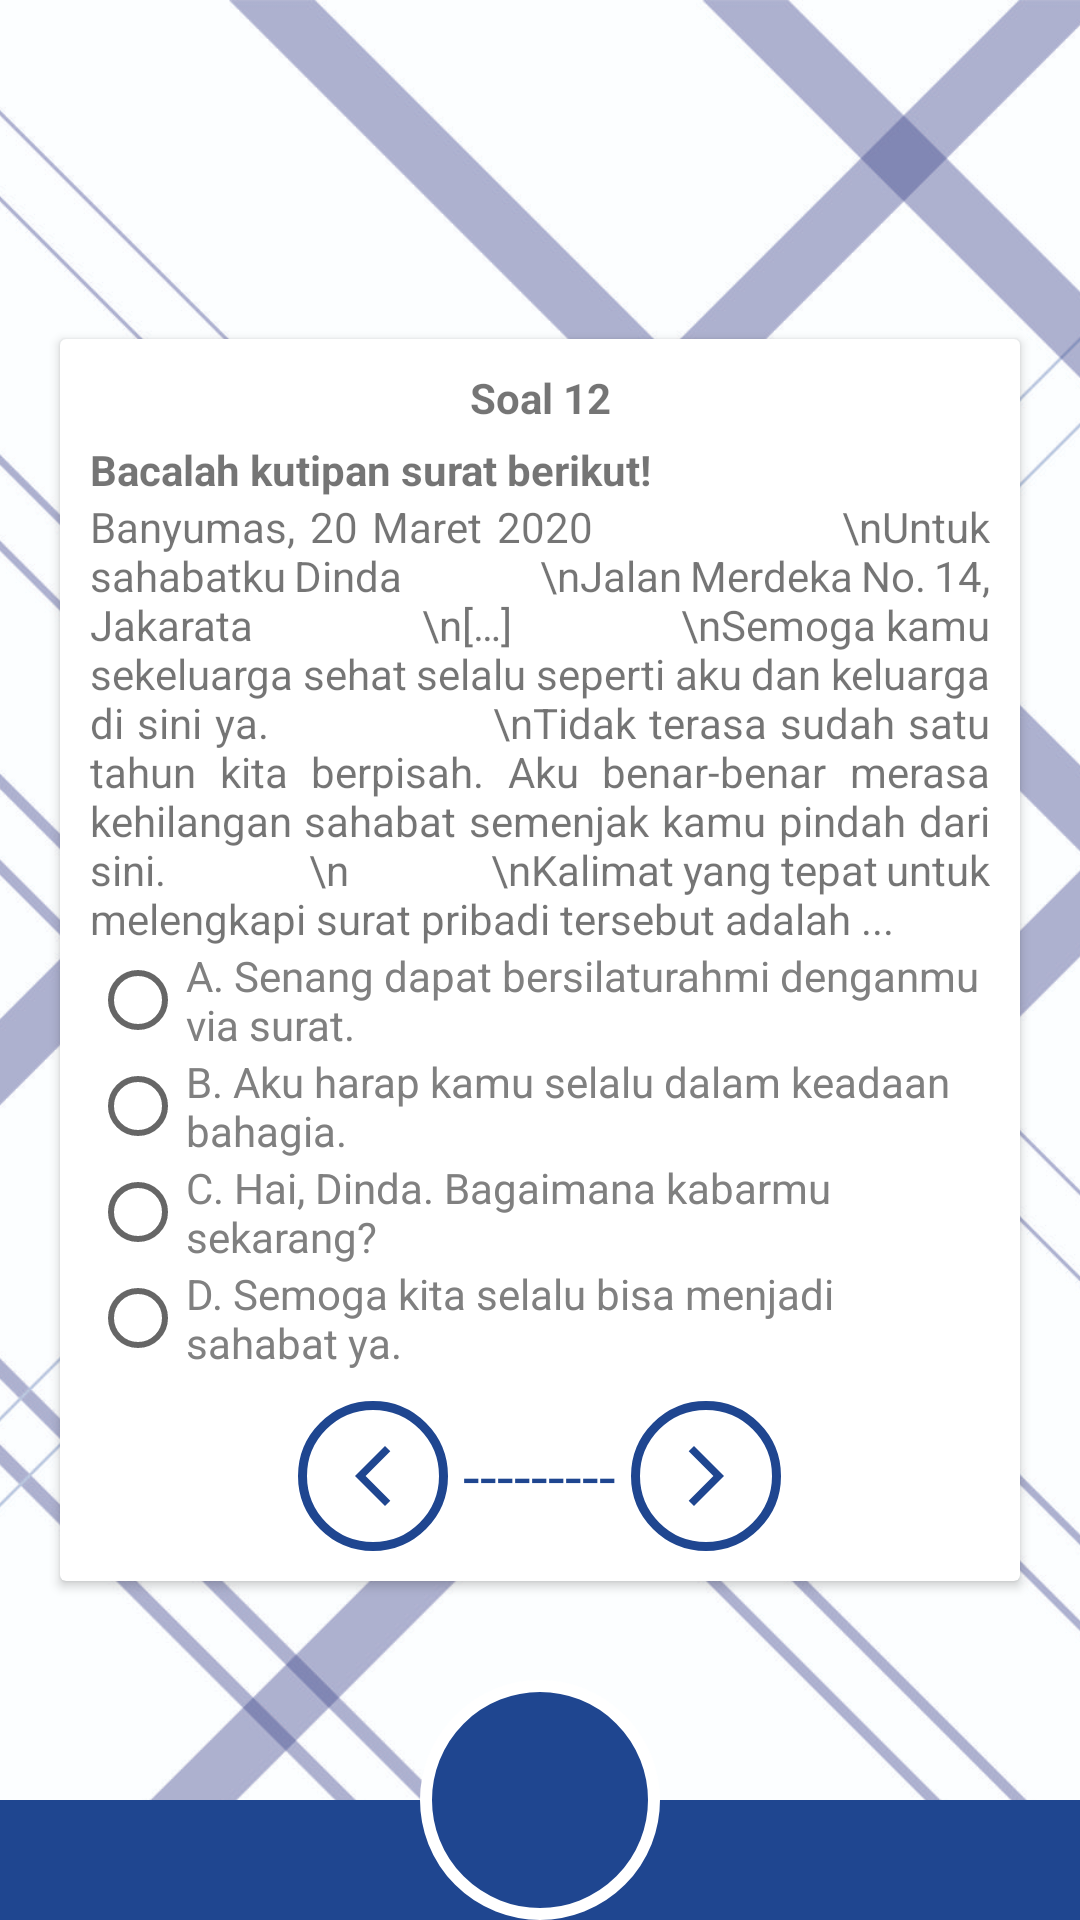

Point at icon controls on the screen. Image size 1080 × 1920, points as (x,y).
arrow back: (373,1476)
arrow forward: (706,1476)
